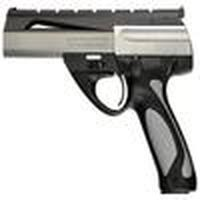gun: (2, 6, 200, 193)
